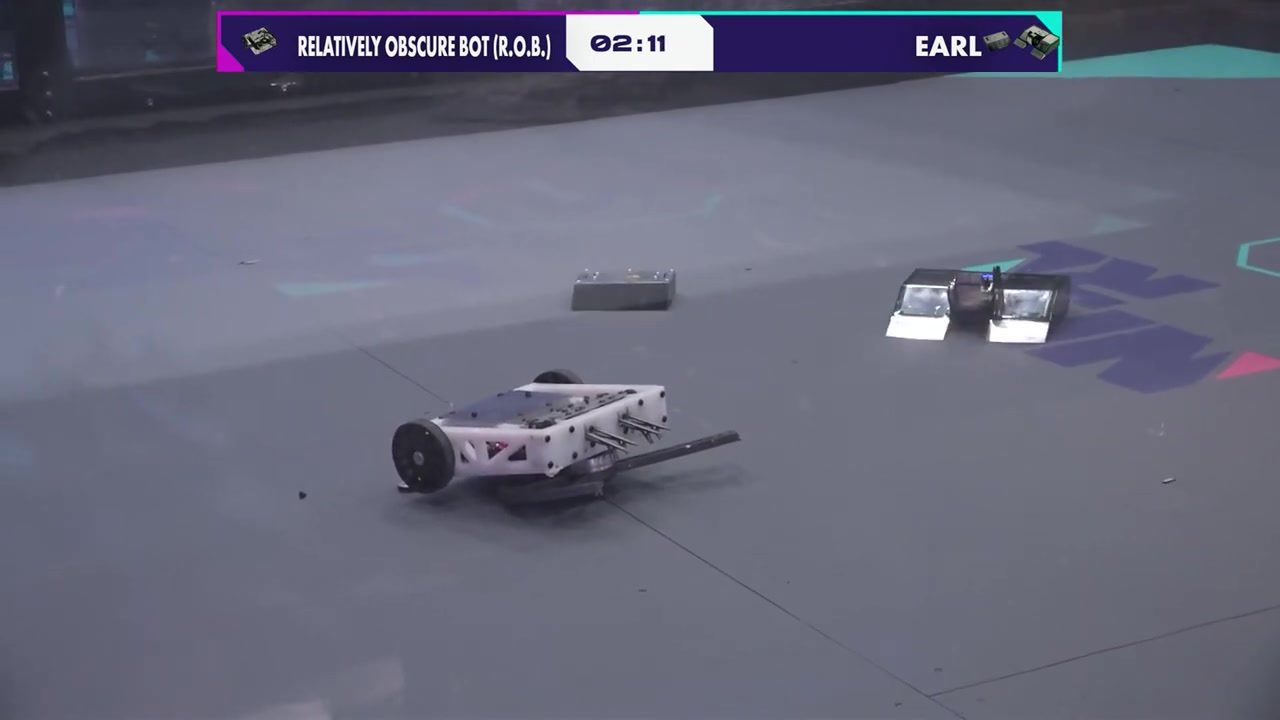combatbot: (390, 370, 746, 522), (884, 258, 1071, 346)
minibot: (569, 268, 681, 314)
